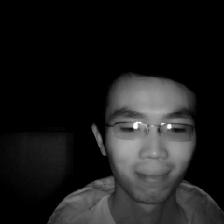happy: (85, 59, 206, 208)
